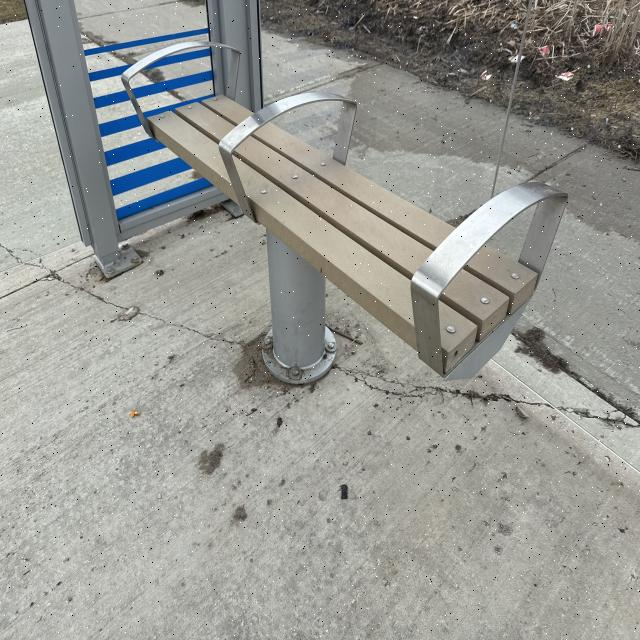Bench: (92, 38, 572, 397)
